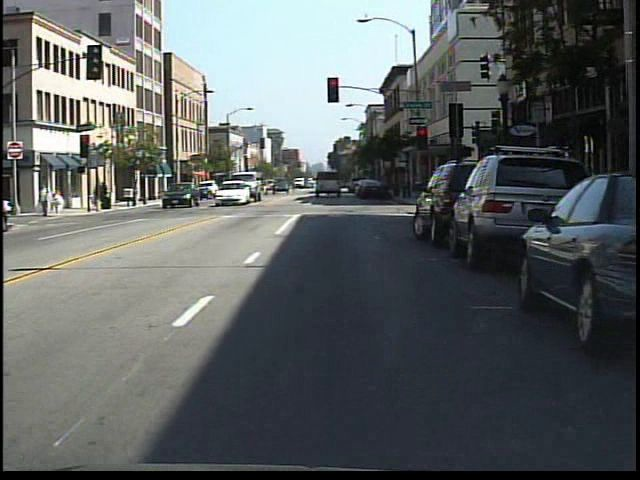person: (38, 181, 56, 219), (50, 185, 67, 220)
